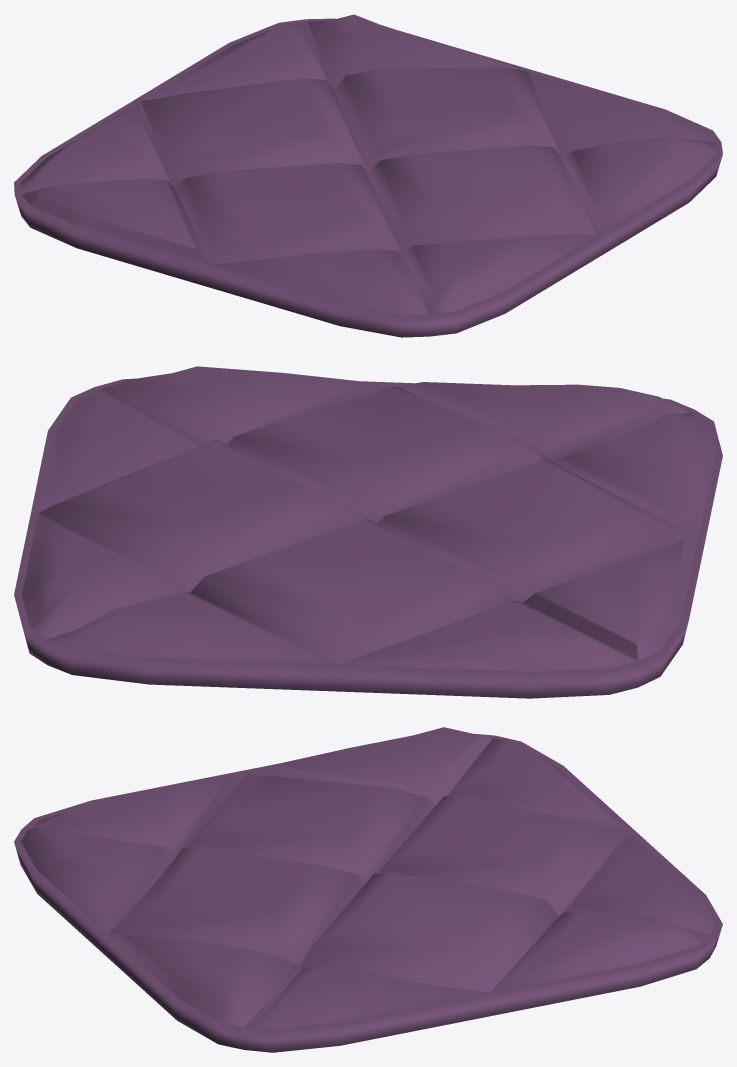
Rendered from Kitchen_Napkin.FBX.
3 views of the same model, one above another, from view 1: azimuth 30°, elevation 25°; view 2: azimuth 150°, elevation 25°; view 3: azimuth 270°, elevation 25° (orthographic). The views are drawn at different scales.
Parts seen in each view (by area): view 1: Kitchen_napkin; view 2: Kitchen_napkin; view 3: Kitchen_napkin.
Boxes of the visible parts, bbox=[...] form: Kitchen_napkin: bbox=[14, 14, 722, 337]; Kitchen_napkin: bbox=[14, 366, 722, 698]; Kitchen_napkin: bbox=[14, 727, 722, 1052].
Size of the model in its own units: 0.2004 by 0.017 by 0.2004.
